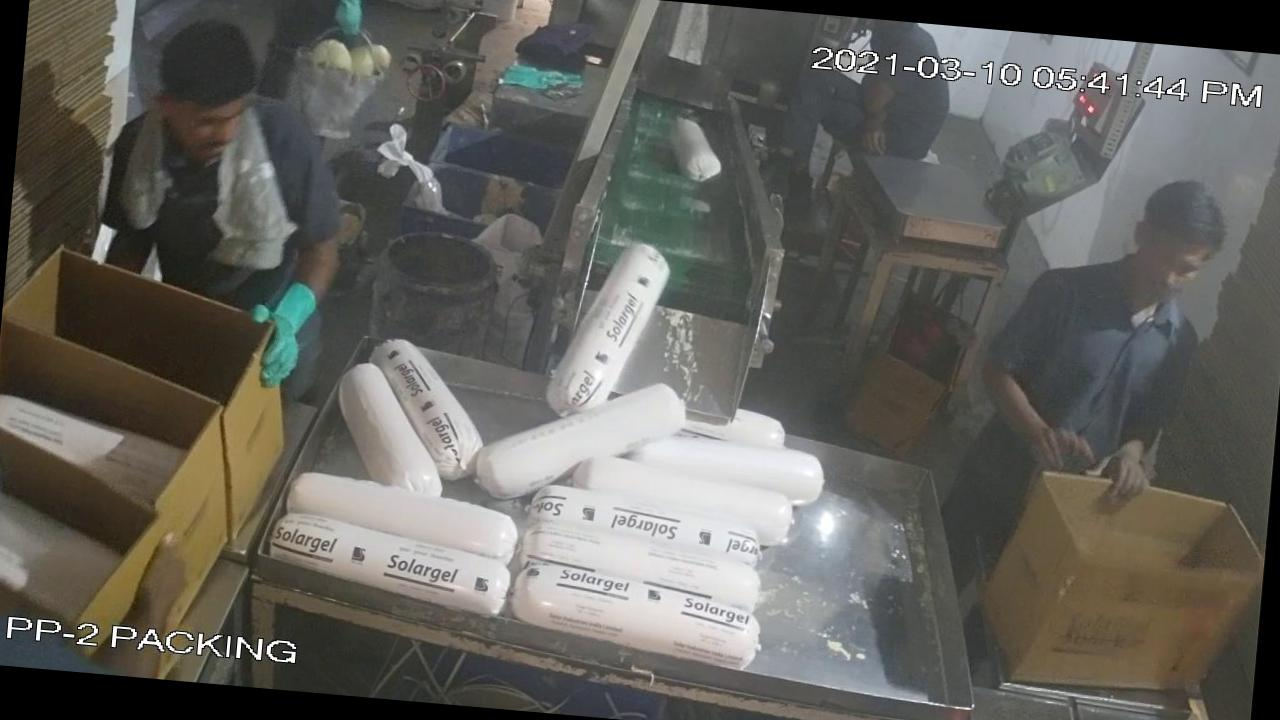Gloves: (220, 262, 338, 399)
No-gloves: (954, 338, 1109, 501), (1092, 409, 1171, 524)
